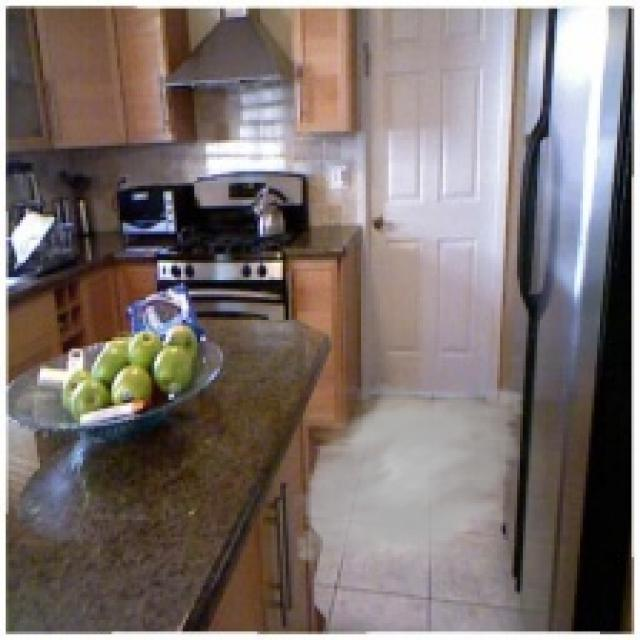Smoke: (286, 371, 534, 586)
